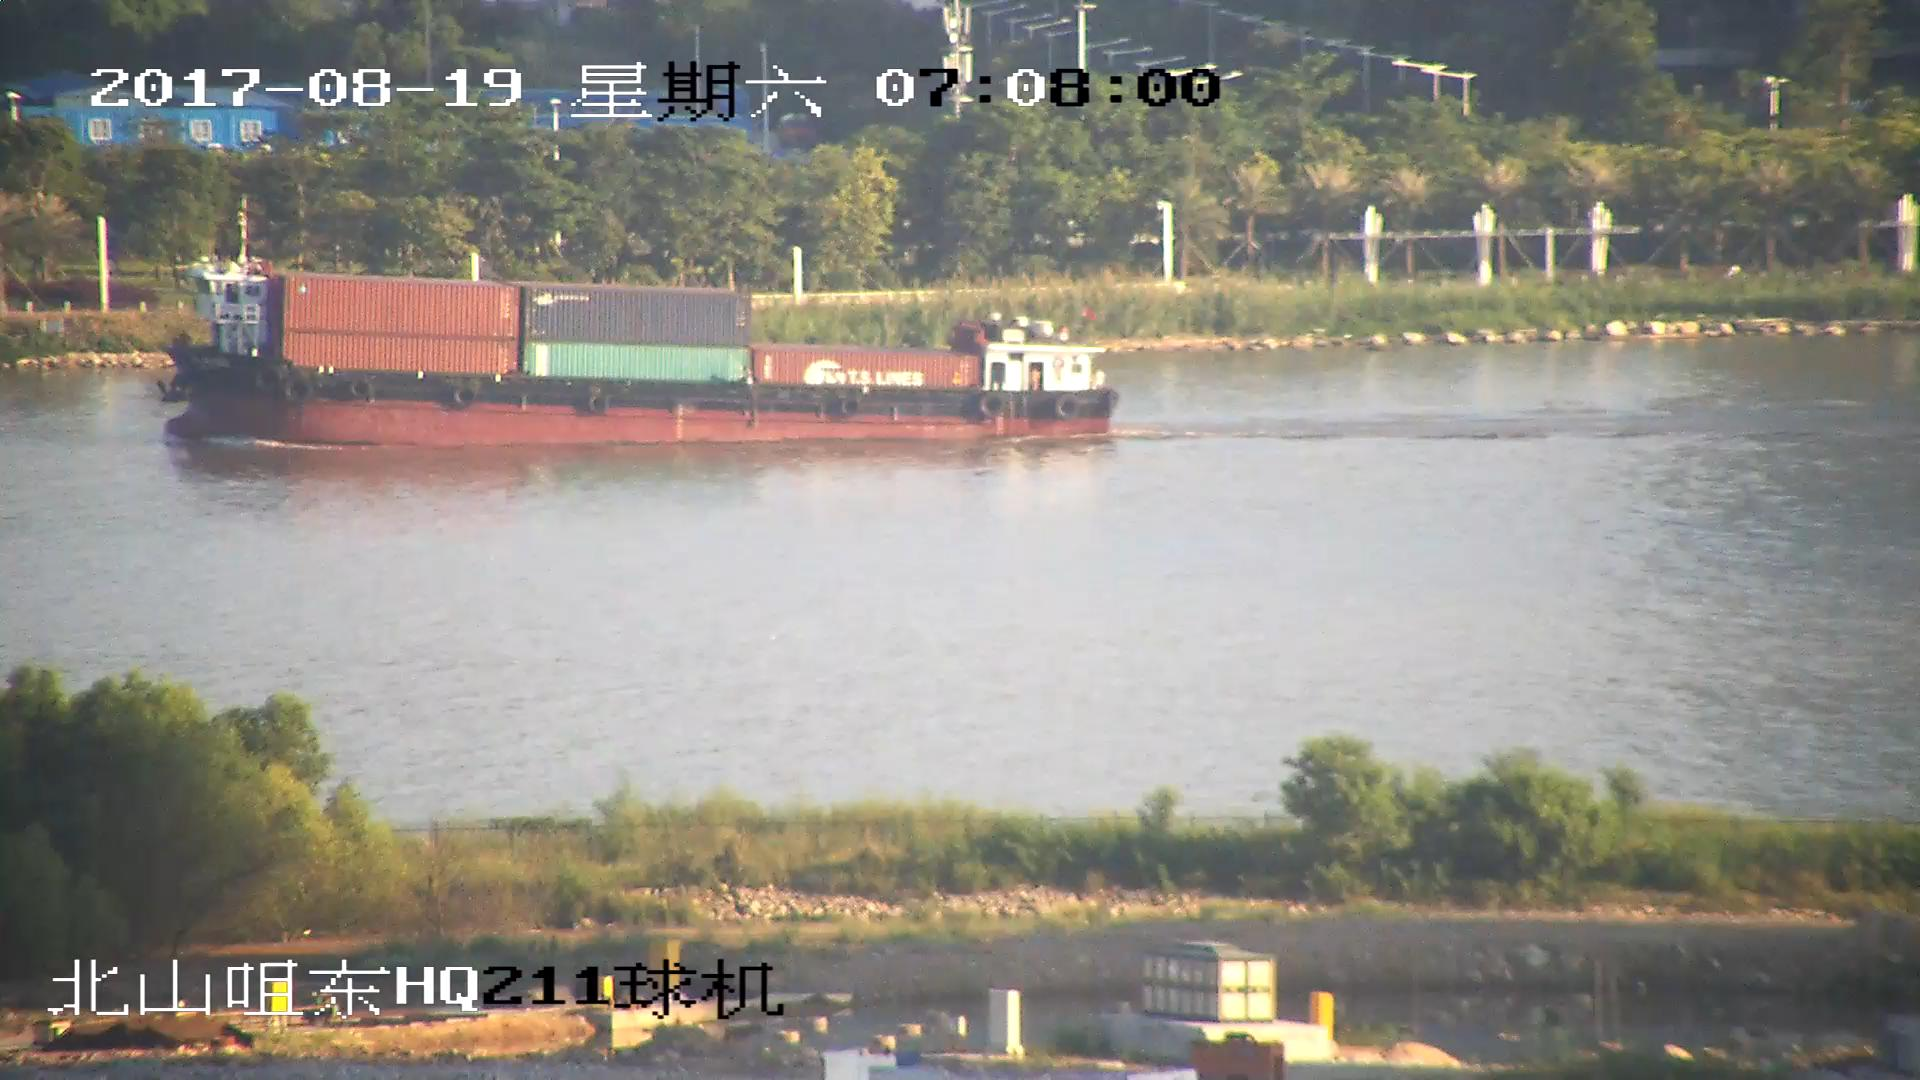container ship: (164, 245, 1120, 459)
